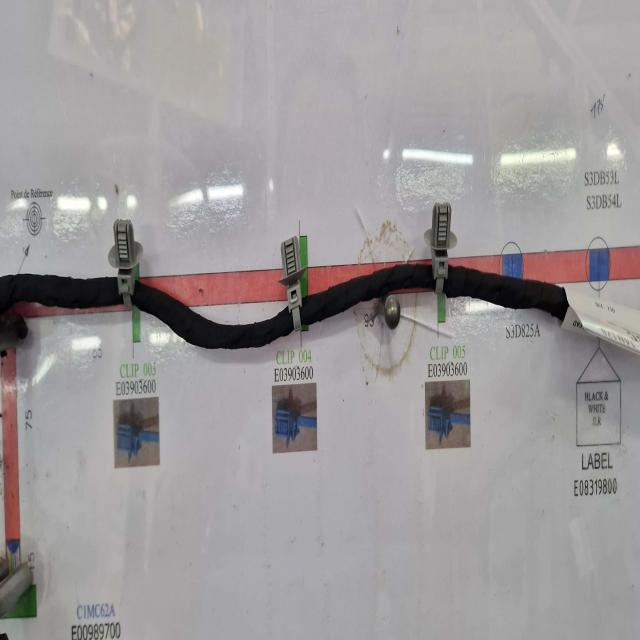Clip: (111, 232, 146, 322), (425, 204, 457, 297), (279, 236, 308, 331)
Info: (563, 286, 639, 357)
MHEV_N11_Cable: (134, 285, 296, 353), (303, 263, 441, 329), (442, 267, 570, 324), (0, 273, 125, 316)
